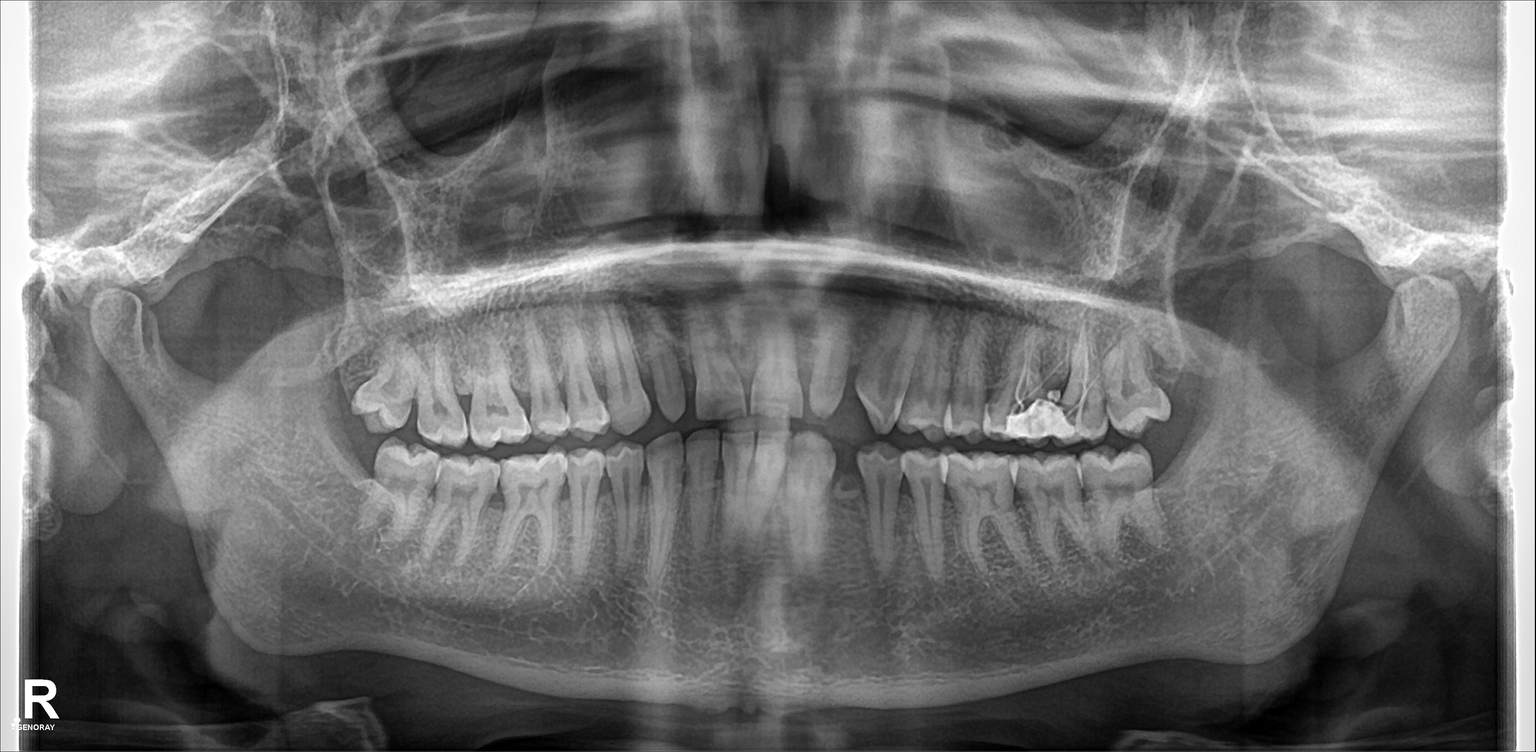Endodontically Treated Tooth: (1013, 342, 1058, 438), (1069, 326, 1105, 439)
Missing Tooth: (335, 432, 380, 521), (1155, 318, 1198, 408), (836, 437, 866, 551), (1155, 434, 1199, 502)
